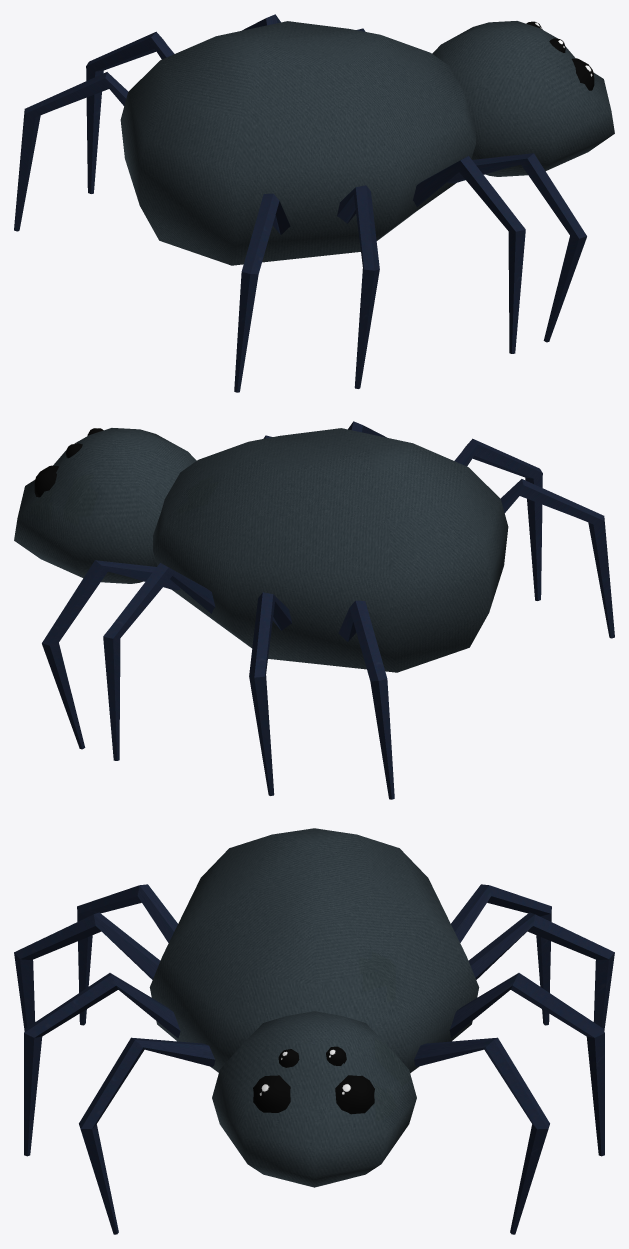
Rendered from spider.glb.
The picture shows the model from 3 angles, top to bottom: view 1: azimuth 30°, elevation 25°; view 2: azimuth 150°, elevation 25°; view 3: azimuth 270°, elevation 25°; orthographic projection. The views are drawn at different scales.
Visible parts, largest first — view 1: pSphere3, pCylinder10, pCylinder12, pCylinder8, pCylinder6, pCylinder5, pCylinder7; view 2: pSphere3, pCylinder9, pCylinder11, pCylinder7, pCylinder5, pCylinder6, pCylinder8, pPlane2; view 3: pSphere3, pCylinder10, pCylinder9, pCylinder12, pCylinder11, pCylinder8, pCylinder7, pCylinder6, pCylinder5, pPlane2, pPlane3.
Boxes of the visible parts, left/top/right/bottom form: pSphere3: left=120, top=21, right=614, bottom=265; pCylinder10: left=413, top=156, right=525, bottom=353; pCylinder12: left=447, top=153, right=586, bottom=342; pCylinder8: left=337, top=185, right=379, bottom=388; pCylinder6: left=234, top=193, right=290, bottom=392; pCylinder5: left=14, top=72, right=128, bottom=231; pCylinder7: left=86, top=31, right=174, bottom=193; pSphere3: left=14, top=428, right=508, bottom=672; pCylinder9: left=103, top=563, right=215, bottom=760; pCylinder11: left=42, top=560, right=180, bottom=749; pCylinder7: left=249, top=592, right=291, bottom=795; pCylinder5: left=338, top=600, right=394, bottom=799; pCylinder6: left=500, top=479, right=614, bottom=638; pCylinder8: left=454, top=438, right=542, bottom=600; pPlane2: left=34, top=465, right=58, bottom=497; pSphere3: left=149, top=828, right=479, bottom=1187; pCylinder10: left=24, top=973, right=180, bottom=1156; pCylinder9: left=449, top=973, right=604, bottom=1156; pCylinder12: left=79, top=1037, right=215, bottom=1234; pCylinder11: left=414, top=1037, right=549, bottom=1234; pCylinder8: left=14, top=912, right=160, bottom=1030; pCylinder7: left=468, top=912, right=614, bottom=1030; pCylinder6: left=77, top=884, right=177, bottom=1025; pCylinder5: left=451, top=884, right=551, bottom=1025; pPlane2: left=335, top=1075, right=374, bottom=1114; pPlane3: left=253, top=1075, right=290, bottom=1112.
Bounding box in the file's own units: 1.95 × 1.07 × 2.
3 materials, 3 textured.
